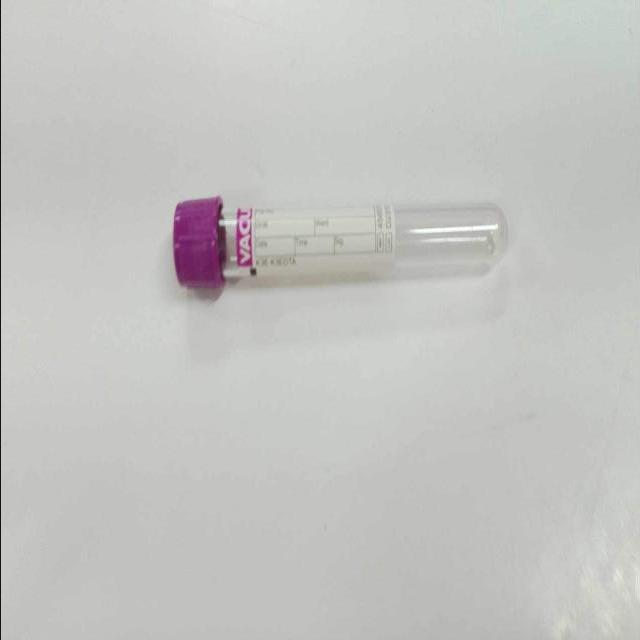Sharps: (172, 194, 509, 290)
